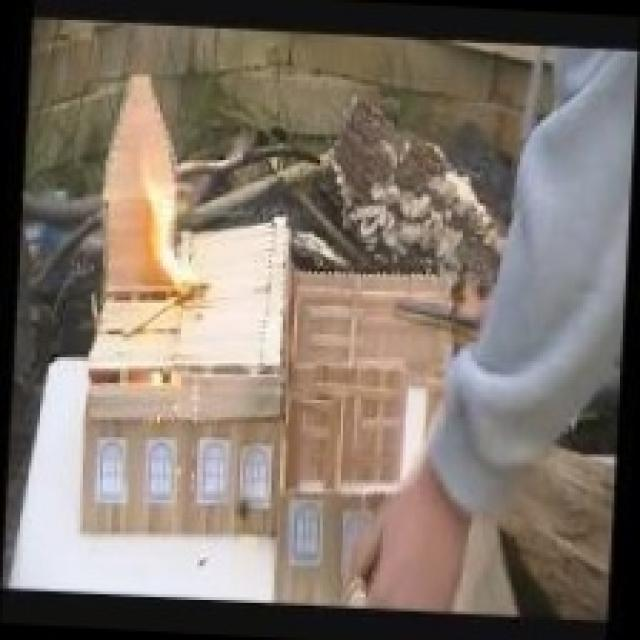fire: (121, 144, 213, 319)
